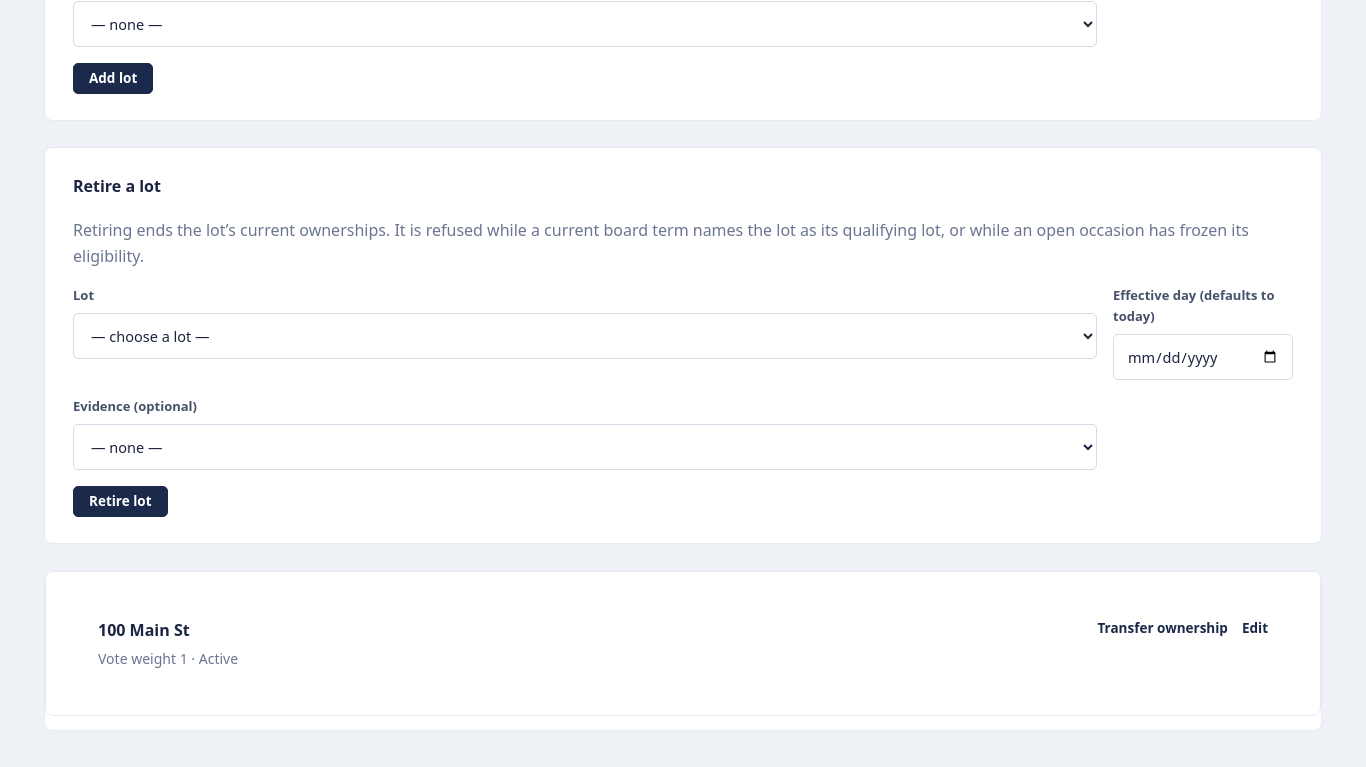
Test: RosterAdminPanel lot records › edits a lot through a row action named for the lot
(page scrolled)
Click the button with aria-label "Edit lot: 100 Main St" at (1255, 629), box [1242,618,1268,640]
(page scrolled)
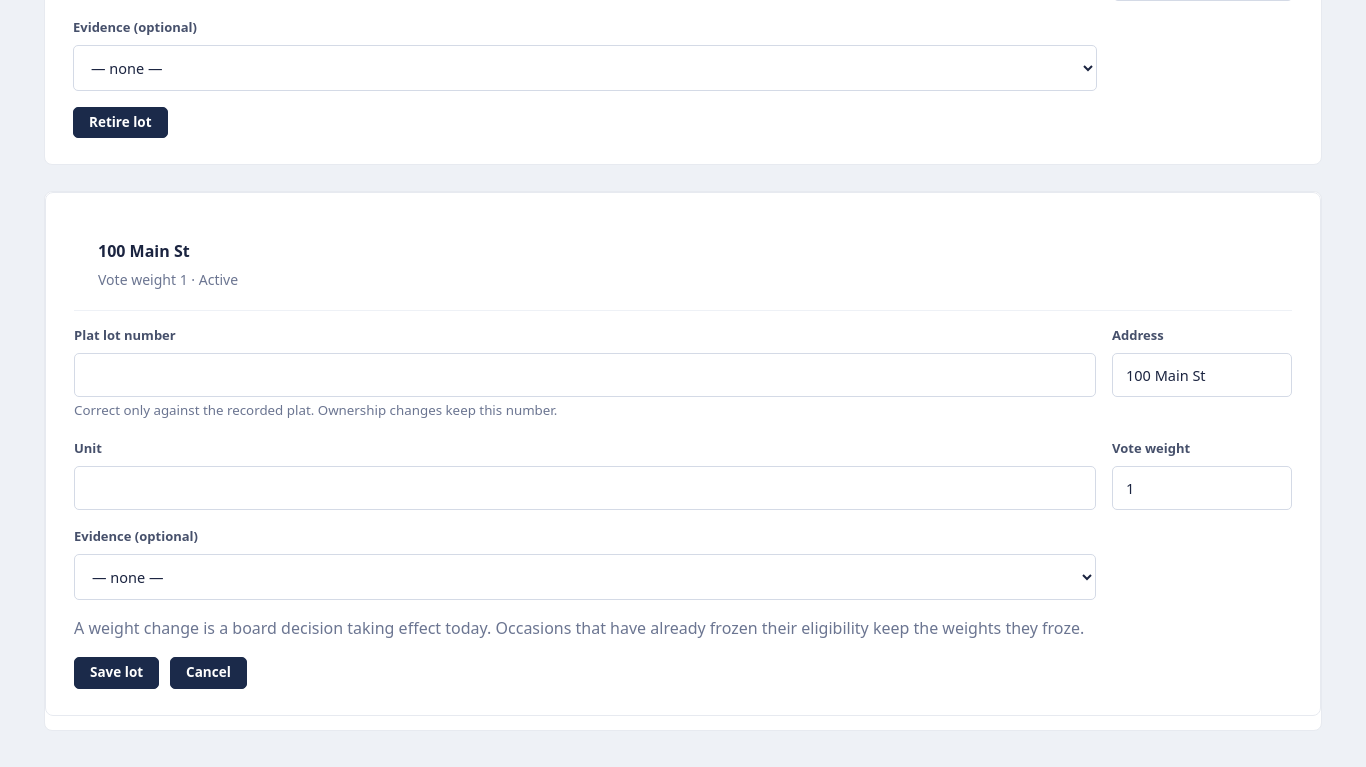
Replace the text in the number field labelled "Vote weight" with "3" at (1202, 488), box [1112,466,1292,510]
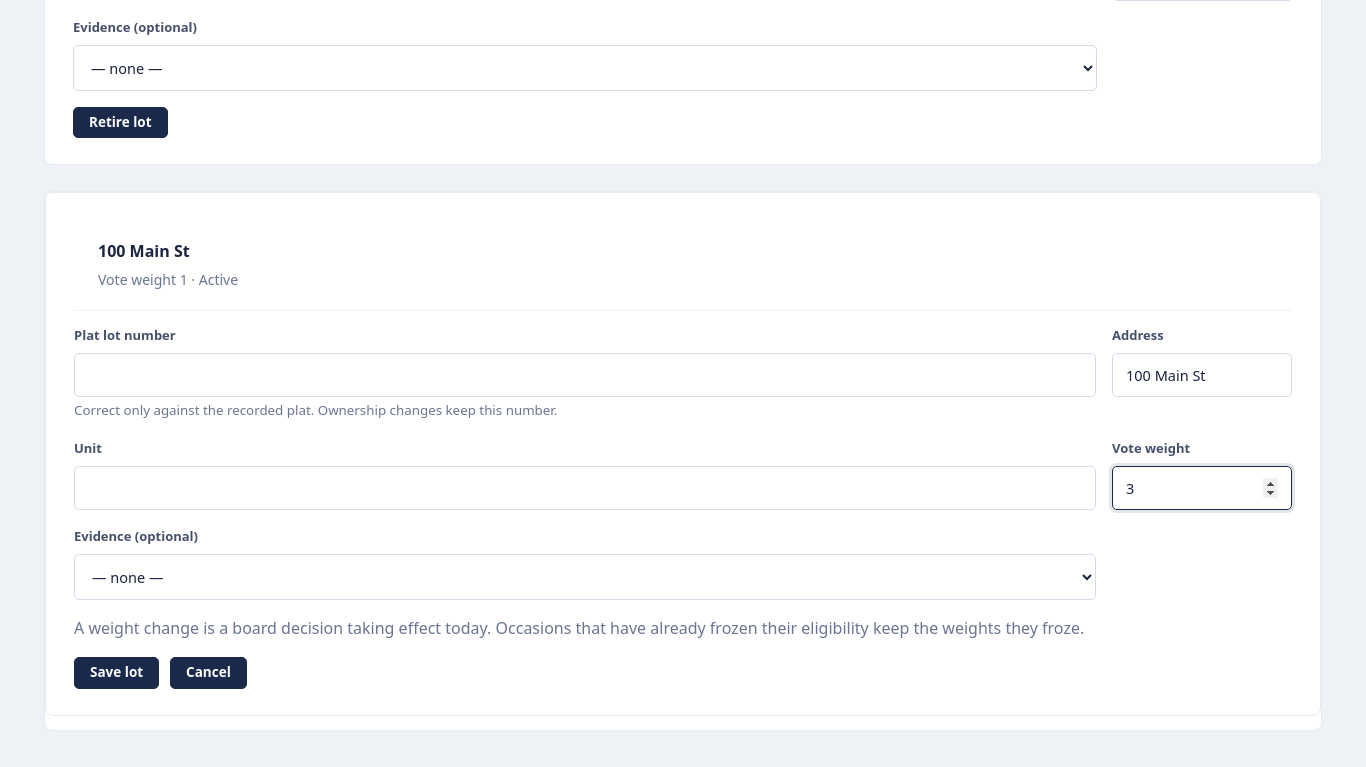
Click the button "Save lot" at (117, 673), box [74,657,159,689]
(page scrolled)
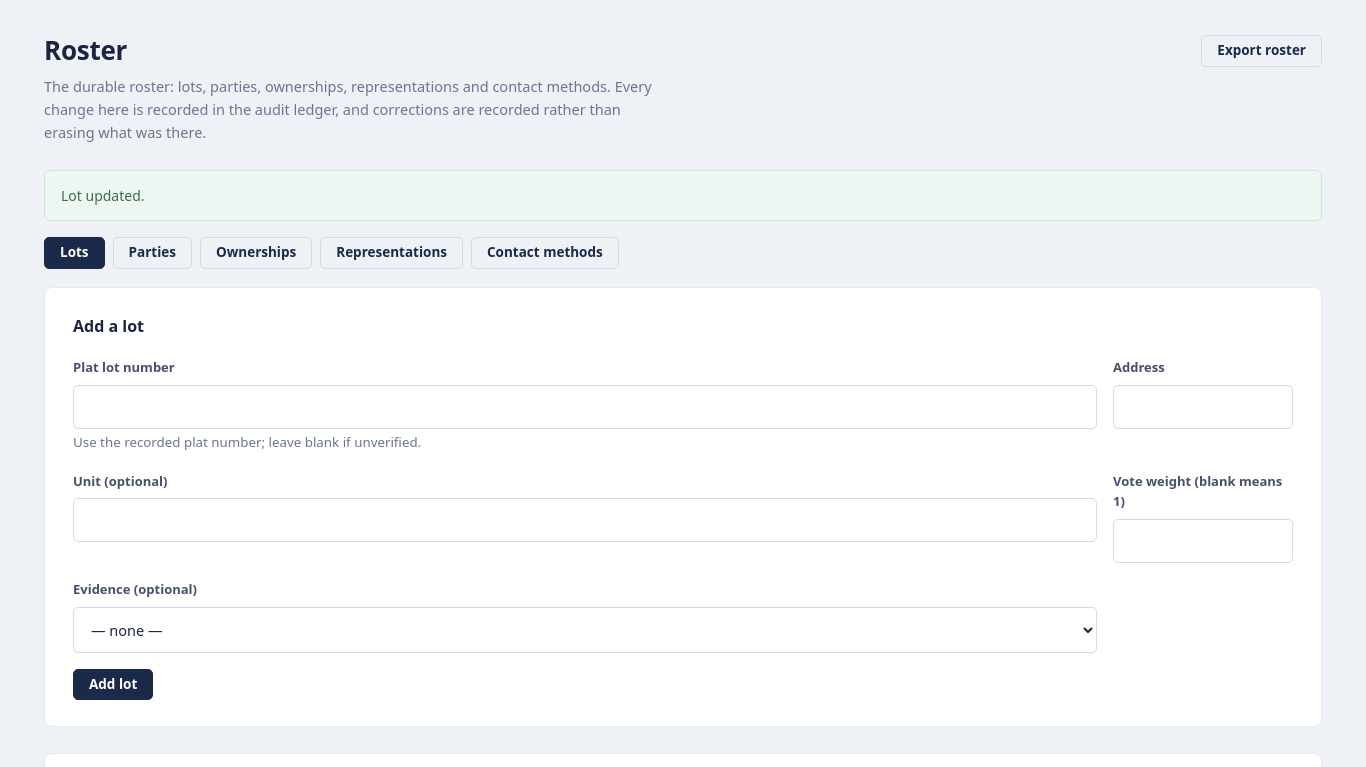
Result: the text "Lot updated." is shown at [44,170,1322,221]
